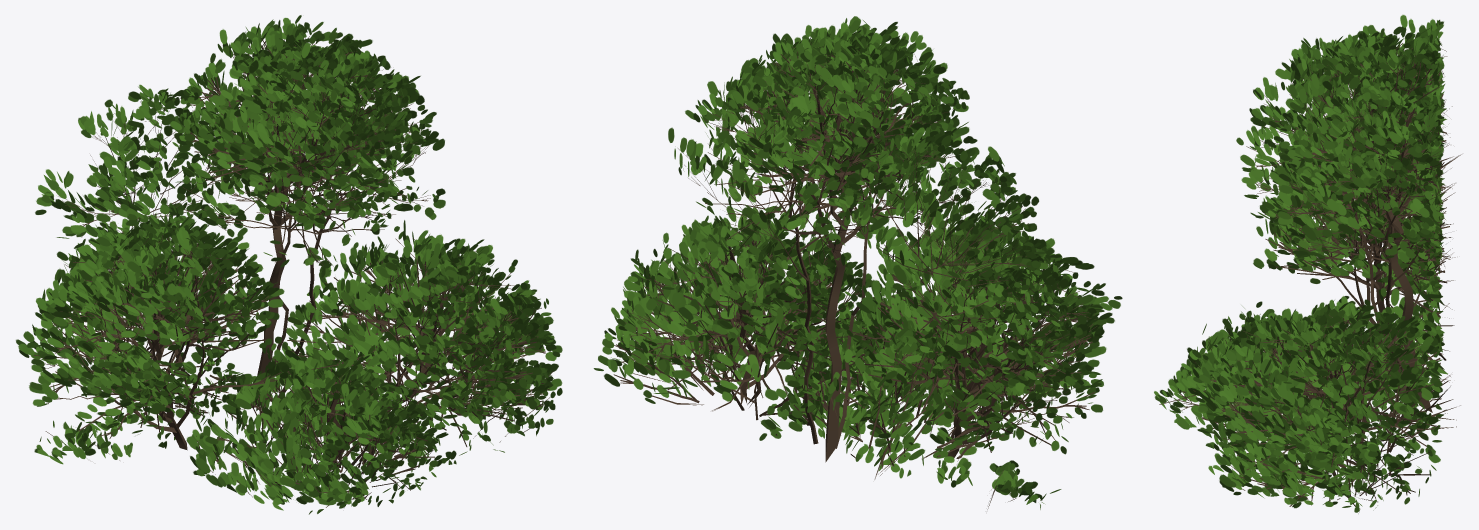
3 renders of one model, left to right at view 1: azimuth 30°, elevation 25°; view 2: azimuth 150°, elevation 25°; view 3: azimuth 270°, elevation 25°, orthographic. The views are drawn at different scales.
Parts seen in each view (by area): view 1: oak 01.001_trunk_Mat.001_0.209; view 2: oak 01.001_trunk_Mat.001_0.209; view 3: oak 01.001_trunk_Mat.001_0.209.
Boxes of the visible parts, x1,y1,x2,y2 form: oak 01.001_trunk_Mat.001_0.209: (16,15,562,514); oak 01.001_trunk_Mat.001_0.209: (593,16,1122,509); oak 01.001_trunk_Mat.001_0.209: (1154,14,1461,513).
Size of the model in its own units: 3.87 by 3.12 by 2.22.
2 materials, 1 textured.
